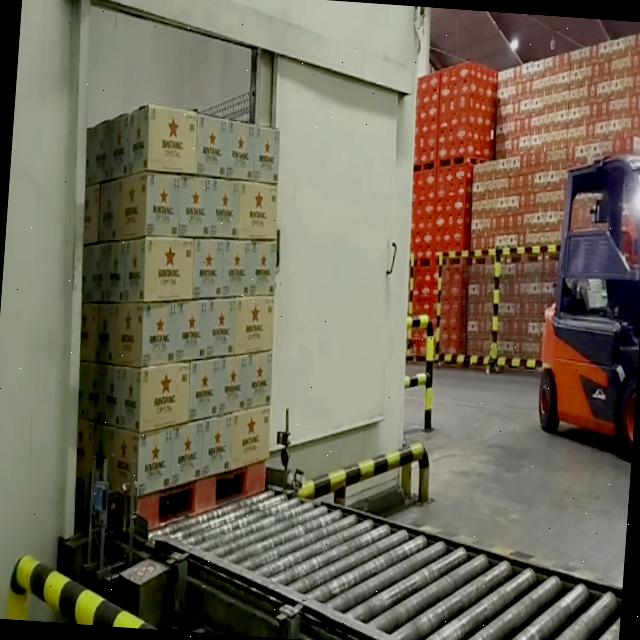pallet: (56, 88, 302, 552)
